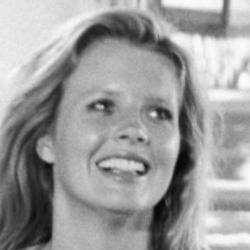face: (8, 11, 224, 243)
